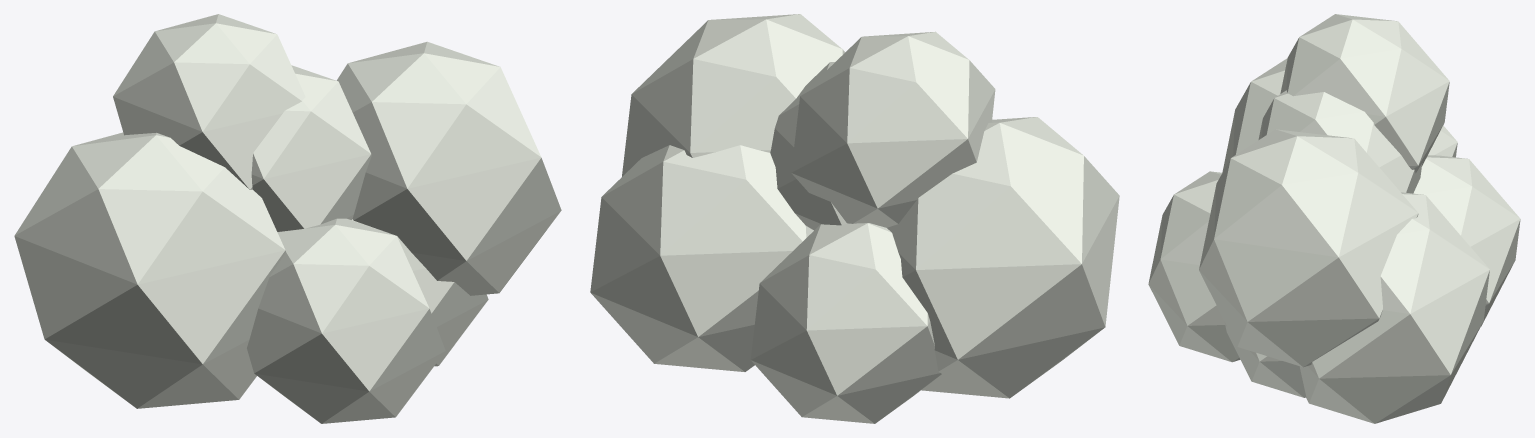
Rendered from Cloud_1.fbx.
3 views of the same model, side by side, from view 1: azimuth 30°, elevation 25°; view 2: azimuth 150°, elevation 25°; view 3: azimuth 270°, elevation 25° (orthographic). The views are drawn at different scales.
Parts seen in each view (by area): view 1: Bush_5; view 2: Bush_5; view 3: Bush_5.
Part boxes in pixels (x1,y1,x2,y2): Bush_5: (14, 14, 561, 423); Bush_5: (590, 14, 1119, 423); Bush_5: (1148, 14, 1520, 423).
Bounding box in the file's own units: 3.65 × 2.69 × 2.86.
1 material, 1 textured.
